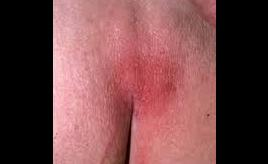Stage1: (86, 0, 176, 158)
